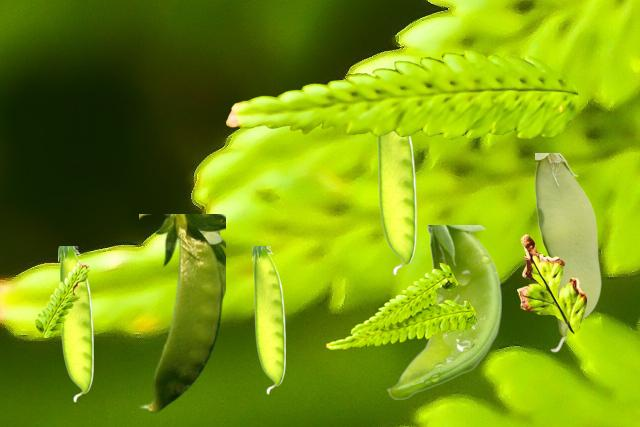pea: (386, 225, 500, 398), (139, 214, 224, 412), (535, 153, 600, 351), (376, 132, 415, 274), (58, 246, 92, 401), (252, 246, 284, 393)
